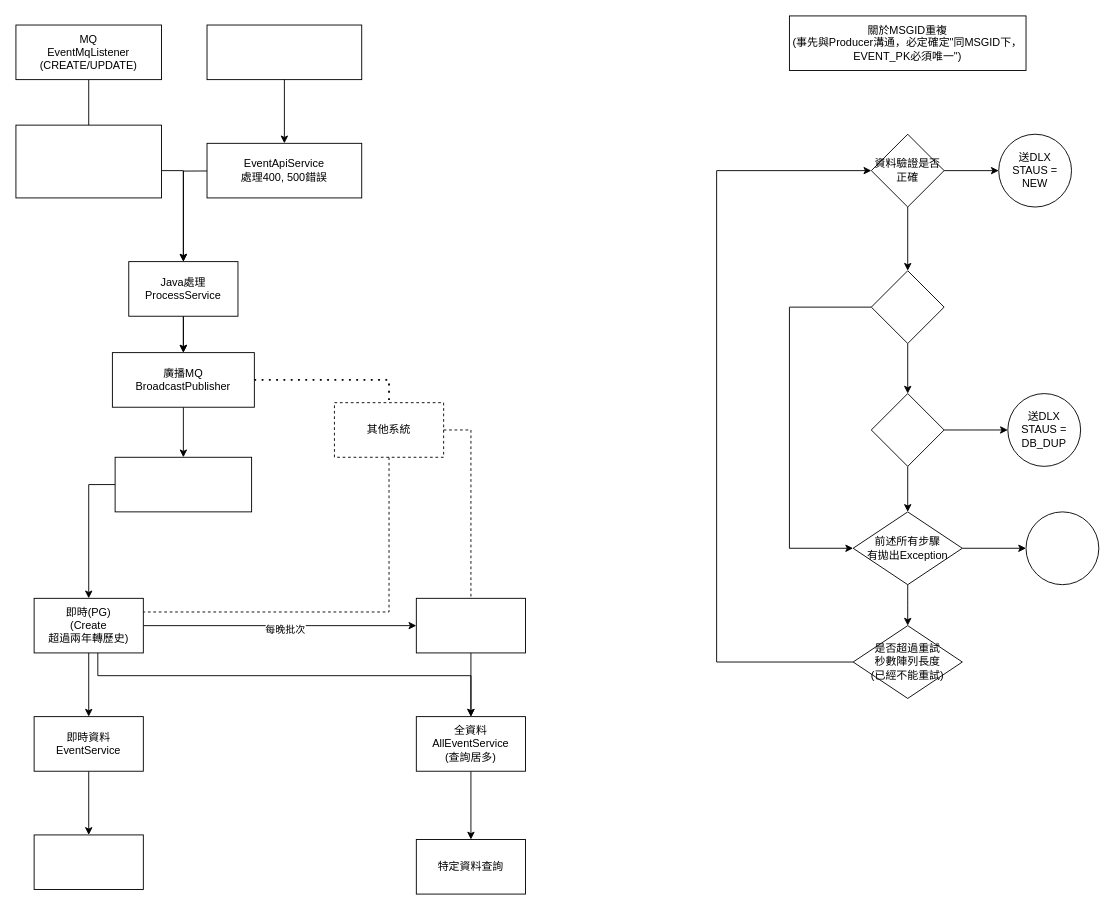
This 1116x910 diagram has some shape labels left out. Here are the shapes that lost their labels. From the top down, the box of each, then its label:
(206, 24, 362, 80): API EventApiController (POST/PUT)
(15, 124, 162, 198): EventMqService (1) 處理時間過長進retry 處理[1s, 2s ,3s]後進死信 (2) 資料驗證失敗直接死信
(870, 270, 944, 344): 是否為CREATE
(870, 393, 944, 466): 是否在Event中唯一
(114, 456, 252, 512): 廣播MQ接收 BroadcastListener
(1025, 511, 1099, 585): 請求送入ProcessService
(415, 597, 526, 653): 歷史(ClickHouse)
(33, 834, 143, 890): 日常業務
